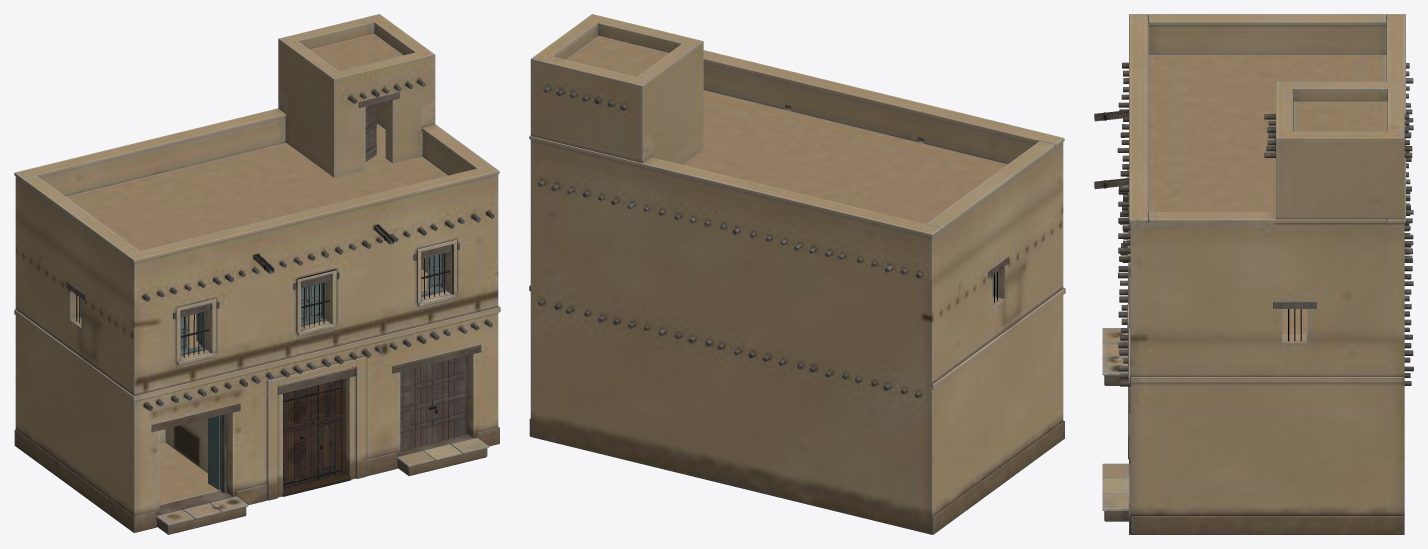
The model's file is souq_hero_m.glb.
The picture shows the model from 3 angles, left to right: view 1: azimuth 30°, elevation 25°; view 2: azimuth 150°, elevation 25°; view 3: azimuth 270°, elevation 25°; orthographic projection. The views are drawn at different scales.
Parts seen in each view (by area): view 1: GX_hero_LOD0; view 2: GX_hero_LOD0; view 3: GX_hero_LOD0.
Boxes of the visible parts, x1=… form: GX_hero_LOD0: x1=14, y1=14, x2=500, y2=534; GX_hero_LOD0: x1=529, y1=14, x2=1065, y2=534; GX_hero_LOD0: x1=1094, y1=14, x2=1413, y2=534.
Size of what is drawn, in the model's own units: 11.6 by 10.35 by 7.57.
Materials: 1 (1 with a texture image).
